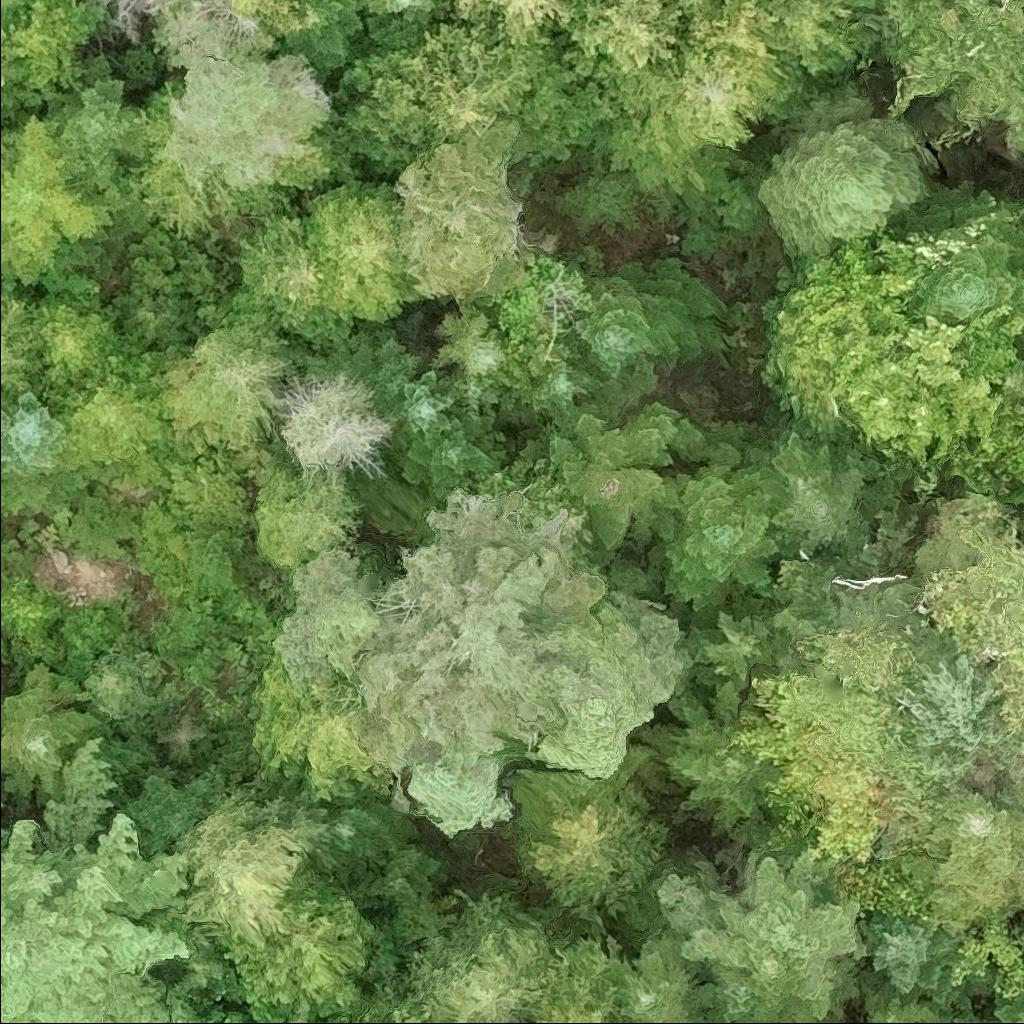crown: (353, 487, 612, 775), (0, 736, 225, 1023), (655, 849, 873, 1023), (113, 83, 340, 245), (615, 0, 802, 188), (726, 675, 896, 868), (754, 87, 934, 260), (787, 620, 939, 824), (508, 744, 675, 928), (339, 19, 535, 175), (531, 592, 694, 778), (394, 122, 535, 306), (220, 873, 383, 1023), (546, 400, 704, 551), (158, 52, 333, 188), (171, 783, 310, 953), (920, 500, 1023, 724), (400, 888, 560, 1023), (249, 653, 394, 801), (573, 258, 728, 394), (0, 111, 114, 295), (643, 459, 780, 612), (652, 679, 779, 840), (157, 314, 294, 460), (883, 179, 1023, 321), (898, 639, 1019, 788), (269, 547, 381, 706), (301, 178, 421, 326), (882, 0, 1023, 125), (894, 791, 1023, 927), (745, 424, 869, 558), (237, 212, 356, 346), (0, 663, 108, 809), (42, 54, 148, 196), (273, 371, 400, 489), (43, 370, 169, 465), (251, 465, 364, 570), (855, 912, 971, 1011), (385, 412, 497, 508), (322, 784, 416, 891), (119, 765, 231, 854), (680, 590, 775, 694), (308, 325, 419, 413), (558, 0, 686, 76), (73, 635, 169, 736), (404, 751, 514, 838), (754, 0, 879, 76), (602, 929, 695, 1023), (439, 0, 586, 58), (28, 302, 116, 397), (519, 360, 643, 425), (275, 0, 371, 80), (429, 297, 516, 383), (346, 844, 448, 914), (0, 388, 70, 480), (721, 940, 795, 1023), (0, 287, 45, 408), (950, 923, 1023, 997), (383, 368, 459, 432), (0, 570, 71, 638), (360, 0, 447, 52), (0, 24, 39, 128), (439, 366, 506, 417), (685, 979, 761, 1023), (863, 989, 940, 1023), (993, 724, 1023, 810), (535, 1003, 607, 1023), (991, 990, 1023, 1023), (367, 1007, 427, 1023), (286, 997, 320, 1023), (0, 0, 31, 24), (669, 0, 707, 7), (1017, 851, 1023, 871), (1014, 194, 1023, 205), (0, 798, 8, 810), (754, 0, 761, 5), (1023, 907, 1023, 910), (1022, 303, 1023, 303)
